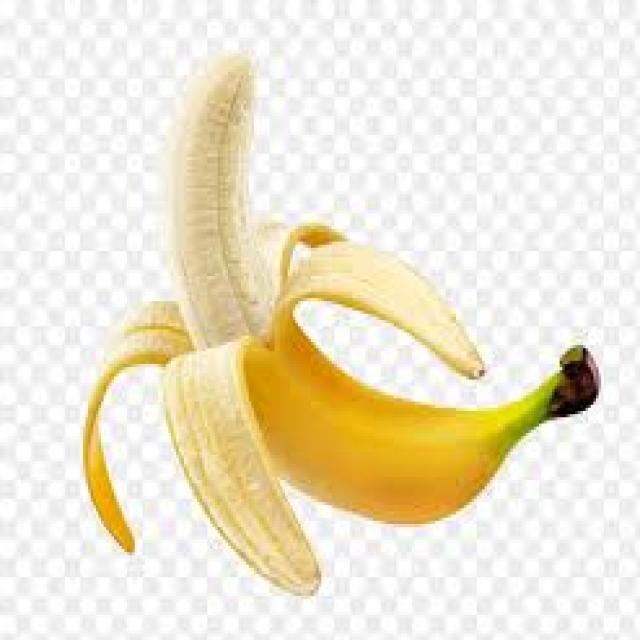banana: (81, 47, 598, 596)
